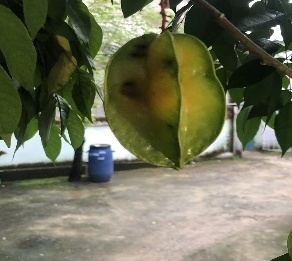Khe: (101, 30, 229, 170)
